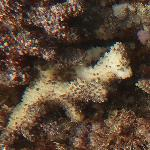dead: (7, 2, 145, 142)
